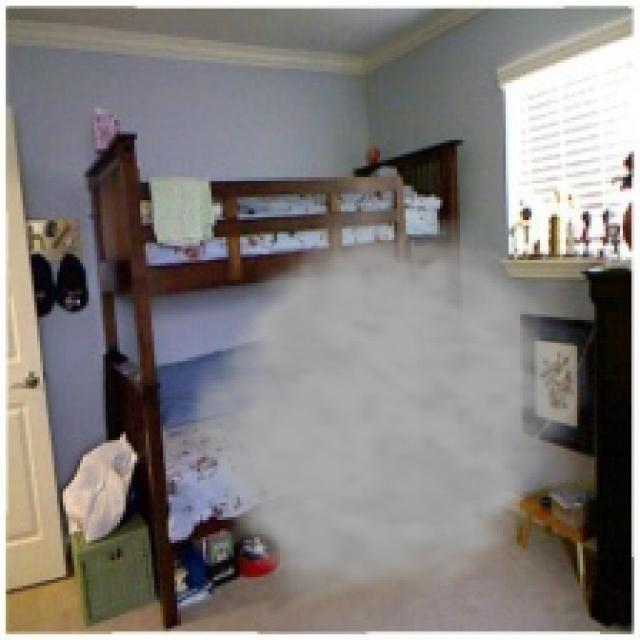smoke: (174, 214, 600, 617)
